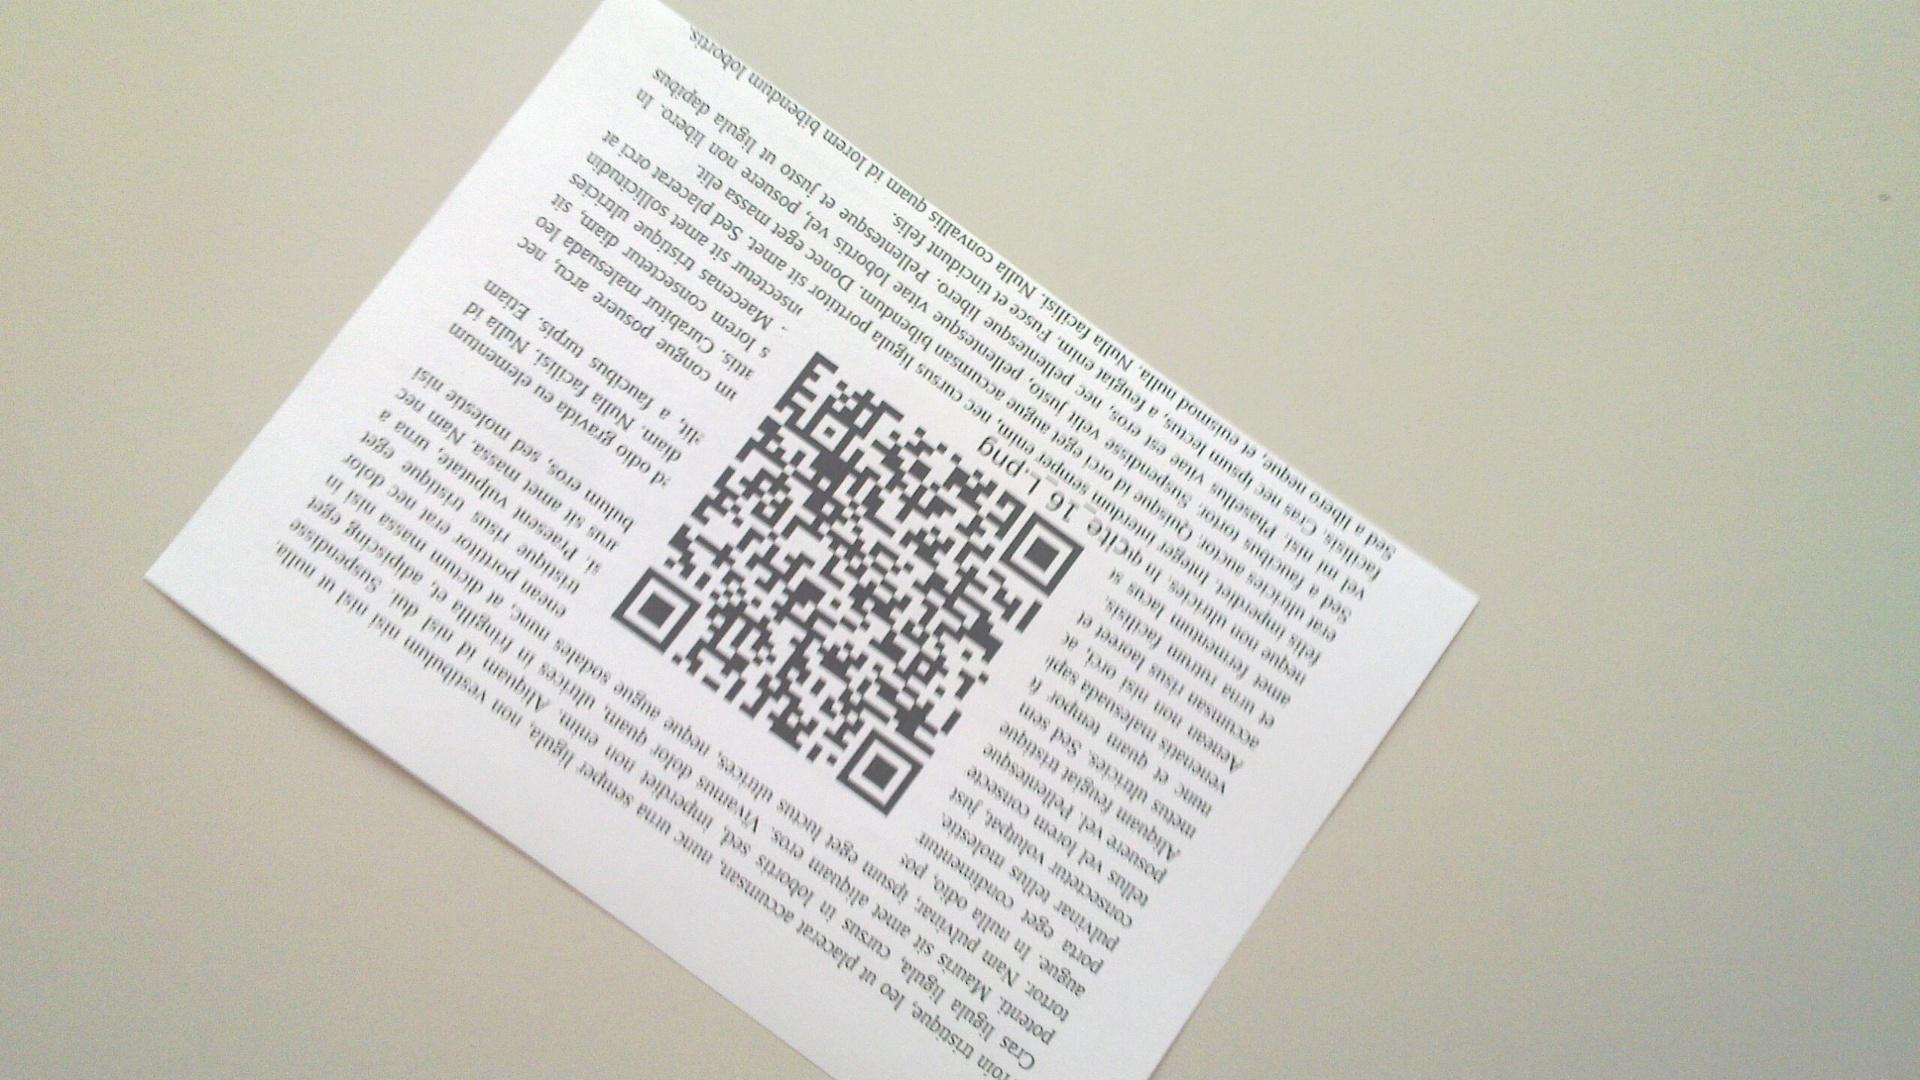qr_code: (613, 349, 1085, 819)
